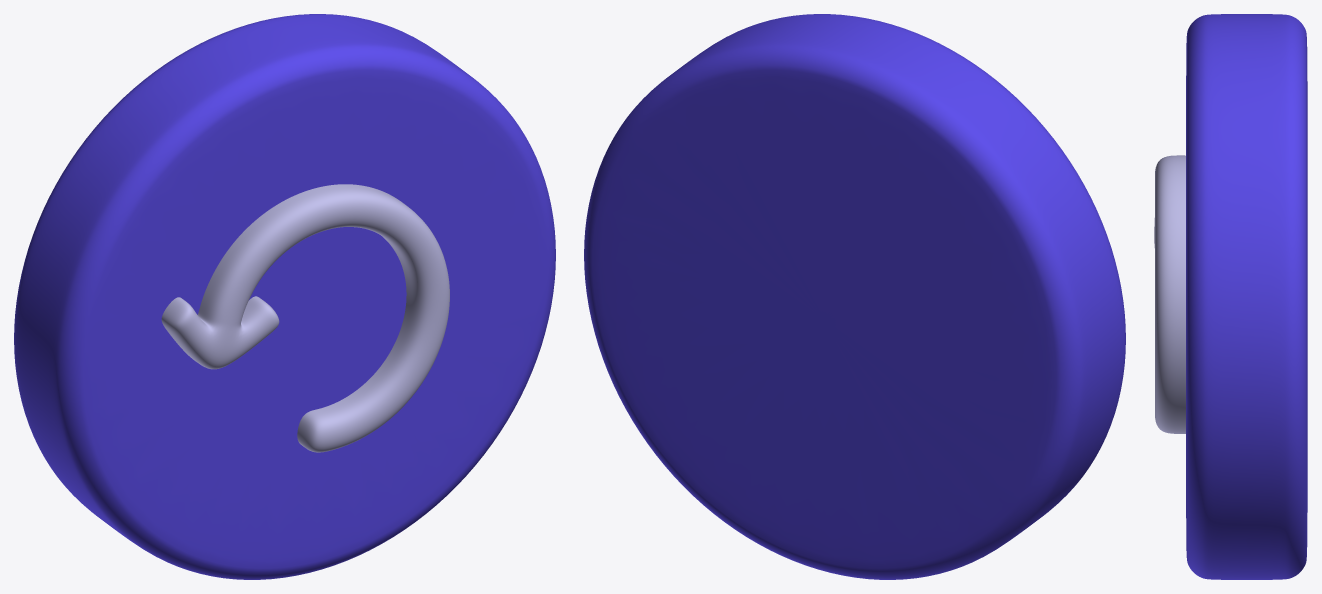
Rendered from undo-animated-3d-icon-710796030814.glb.
3 views of the same model, side by side, from view 1: azimuth 30°, elevation 25°; view 2: azimuth 150°, elevation 25°; view 3: azimuth 270°, elevation 25° (orthographic).
Visible parts, largest first — view 1: Base.005, Circle.003; view 2: Base.005; view 3: Base.005, Circle.003.
Boxes of the visible parts, x1,y1,x2,y2 form: Base.005: [14, 14, 555, 579]; Circle.003: [161, 184, 449, 452]; Base.005: [584, 14, 1125, 579]; Base.005: [1186, 14, 1307, 579]; Circle.003: [1154, 155, 1185, 433].
Size of the model in its own units: 1.99 by 1.99 by 0.539.
